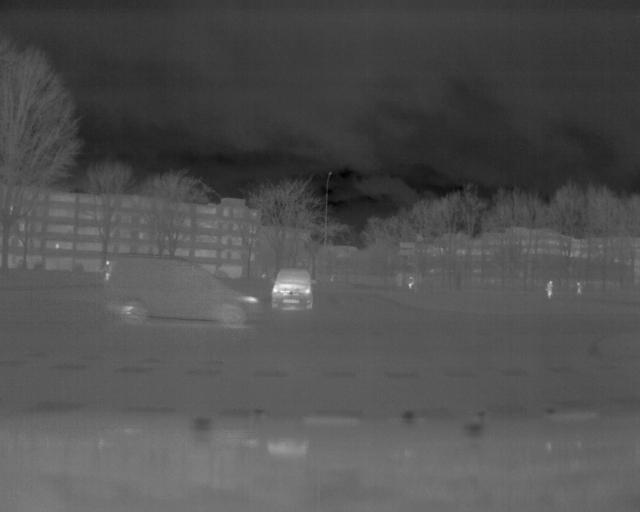car: (101, 250, 265, 328), (269, 267, 316, 312)
person: (544, 278, 555, 301)
